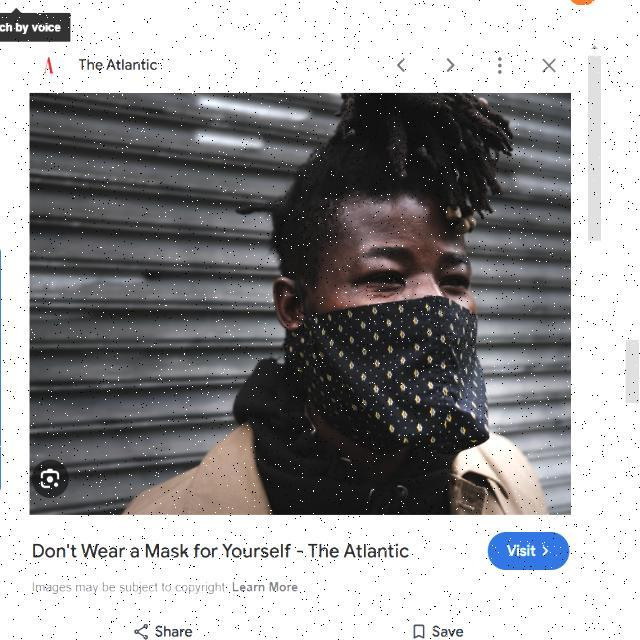face_mask: (271, 199, 483, 419)
